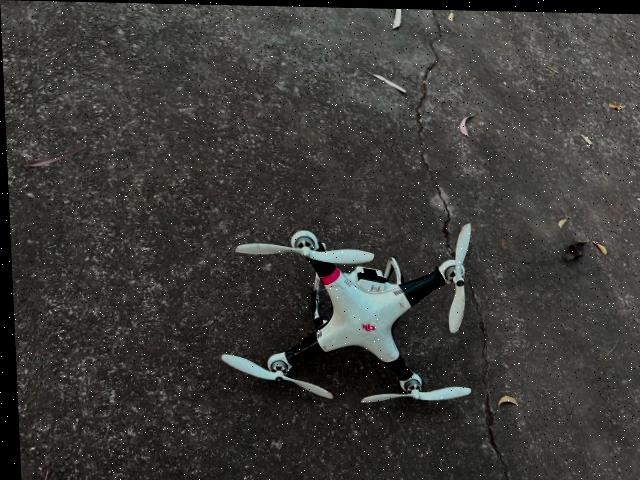drone: (131, 170, 553, 468)
